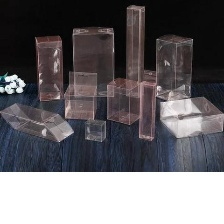plastic_box: (68, 21, 118, 100), (0, 97, 77, 147), (154, 92, 224, 142), (150, 29, 197, 103), (121, 0, 151, 101), (101, 72, 148, 127), (32, 31, 66, 103), (58, 67, 101, 122), (134, 64, 163, 145), (79, 114, 110, 145)
